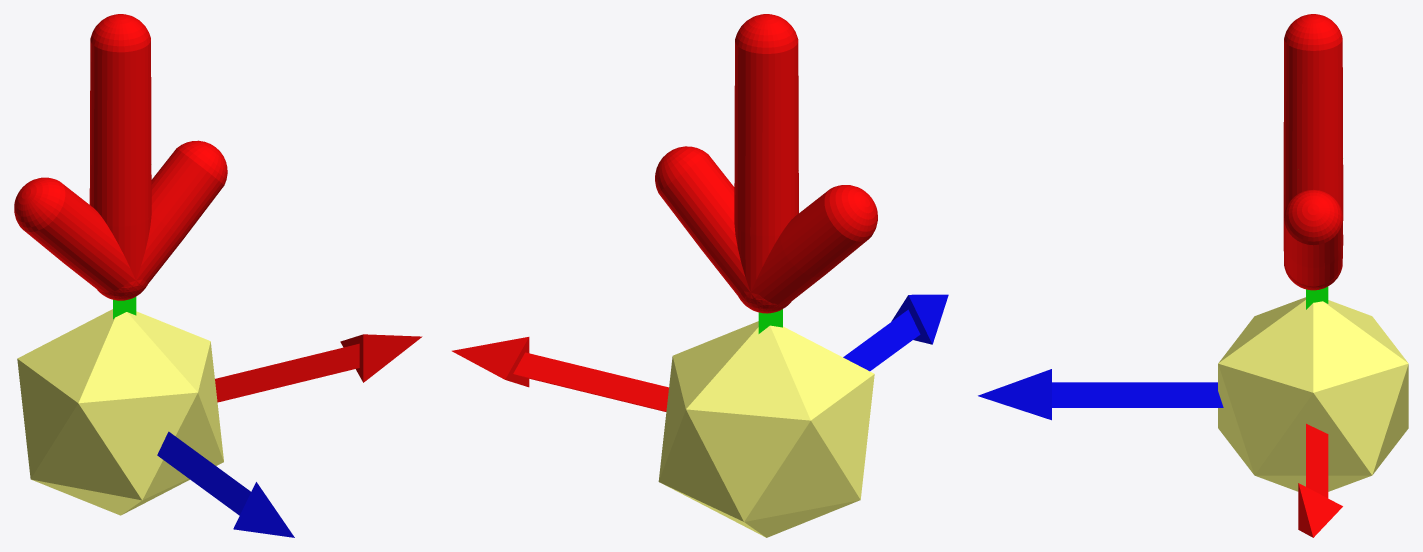
File: controlPoint2.obj
The picture shows the model from 3 angles, left to right: view 1: azimuth 30°, elevation 25°; view 2: azimuth 150°, elevation 25°; view 3: azimuth 270°, elevation 25°; orthographic projection. The views are drawn at different scales.
Visible parts, largest first — view 1: controlPoint2, Sphere, Sphere.002, Sphere.001; view 2: controlPoint2, Sphere, Sphere.002, Sphere.001; view 3: controlPoint2, Sphere, Sphere.001.
Part boxes in pixels (x1,y1,x2,y2): controlPoint2: (17, 297, 422, 537); Sphere: (89, 14, 151, 300); Sphere.002: (14, 177, 147, 294); Sphere.001: (103, 140, 227, 300); controlPoint2: (452, 294, 948, 537); Sphere: (734, 14, 798, 313); Sphere.002: (738, 185, 877, 306); Sphere.001: (655, 146, 786, 313); controlPoint2: (978, 286, 1408, 537); Sphere: (1283, 14, 1343, 290); Sphere.001: (1283, 189, 1343, 290).
Bounding box in the file's own units: 15.07 × 17.75 × 14.44.
